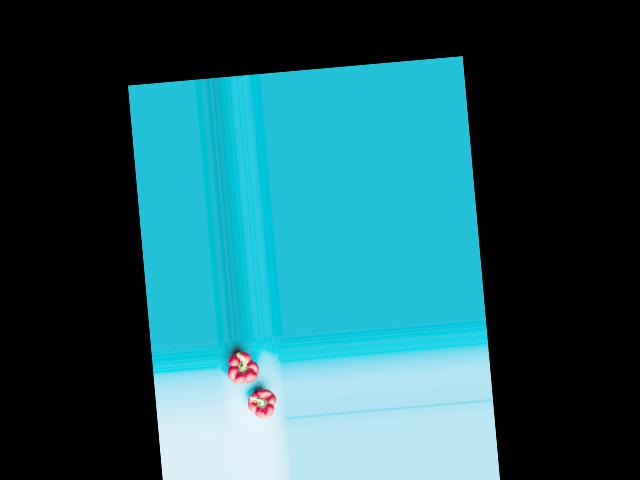bell_pepper: (226, 346, 264, 391)
